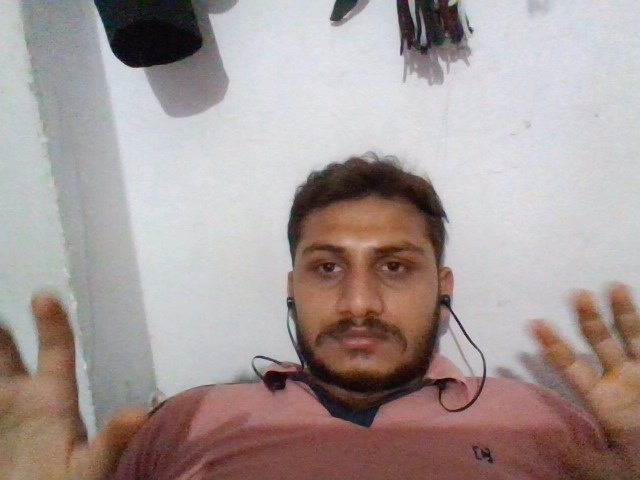Hello: (521, 260, 640, 479)
